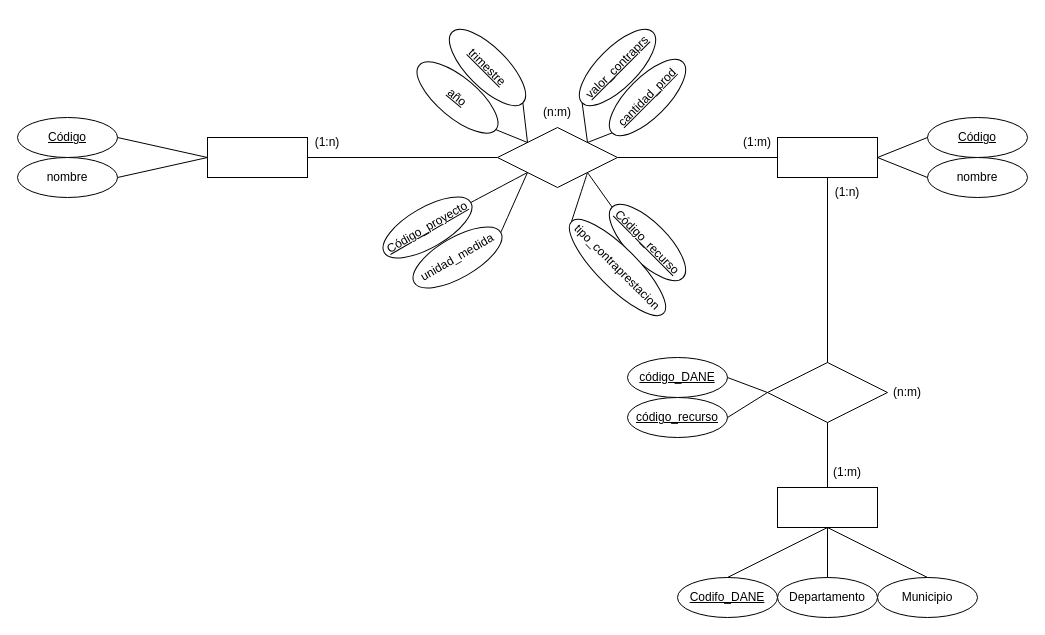
Some shapes in this 1045 by 635 pixel diagram are drawn without their labels. The shapes that lost their labels are listed below. From the top down, each one's box as (x1, y1, x2, y2) in pixels, then its label:
(206, 136, 308, 178): Proyecto
(496, 126, 618, 188): Explota
(776, 136, 878, 178): Recurso
(766, 362, 888, 422): Tiene
(776, 486, 878, 528): Ciudad
